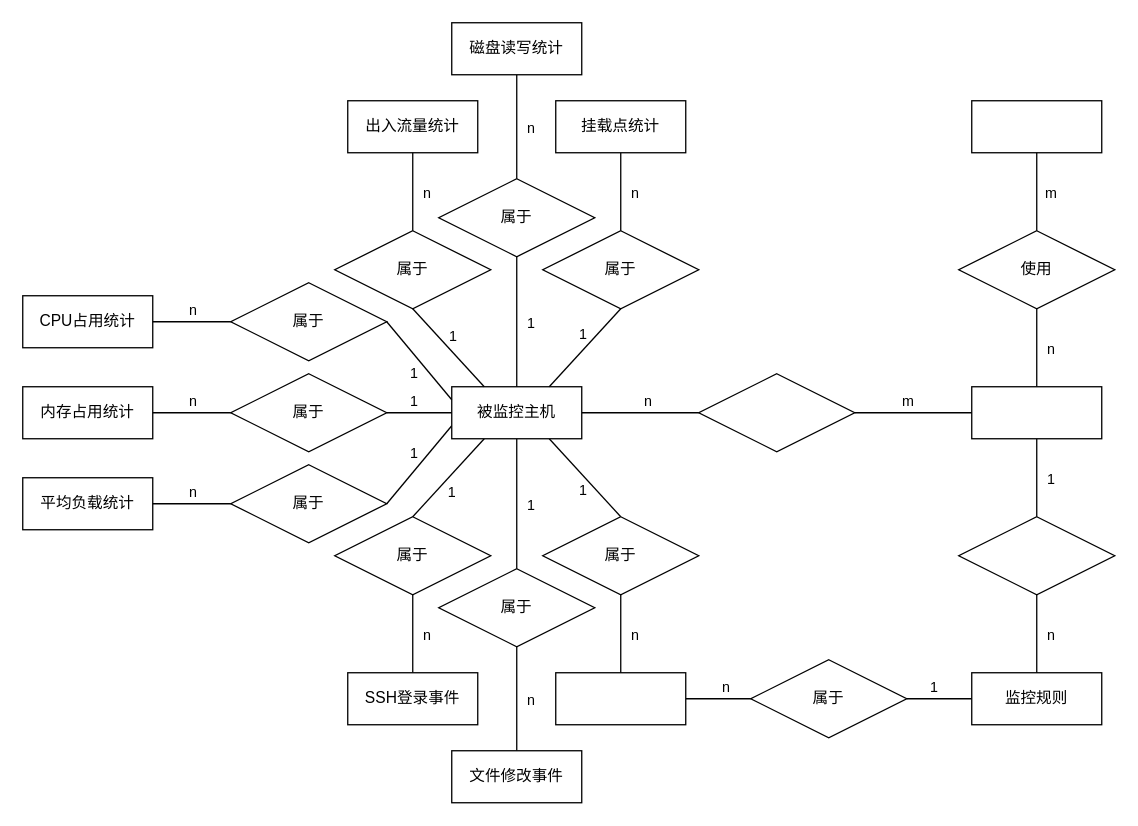
Some shapes in this 1138 by 826 pixel diagram are drawn without their labels. The centre of each missing label's shape, as x and y in pixels:
加入: (776,412)
包含: (1036,555)
告警信息: (620,698)
推送渠道: (1036,126)
监控规则组: (1036,412)
